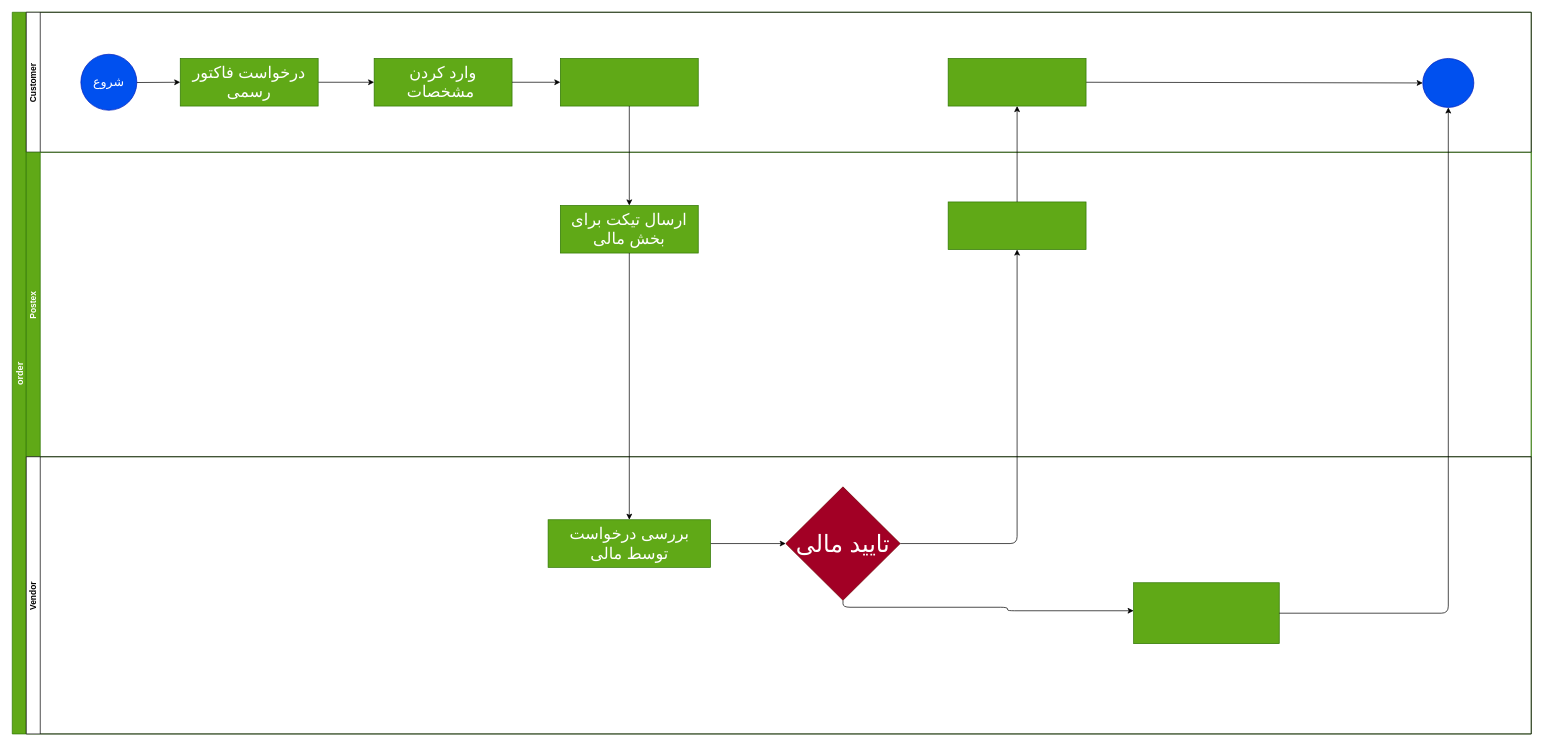
Image size: 1544x746. Some labels were removed from this diagram. Each missing label, with the centre of its shape:
"ایجاد فاکتور در پنل مشتری" goes at pixel 1016 225.
"ثبت درخواست" goes at pixel 629 82.
"دانلود فاکتور" goes at pixel 1016 82.
"رد درخواست" goes at pixel 1206 613.
"پایان" goes at pixel 1448 82.
